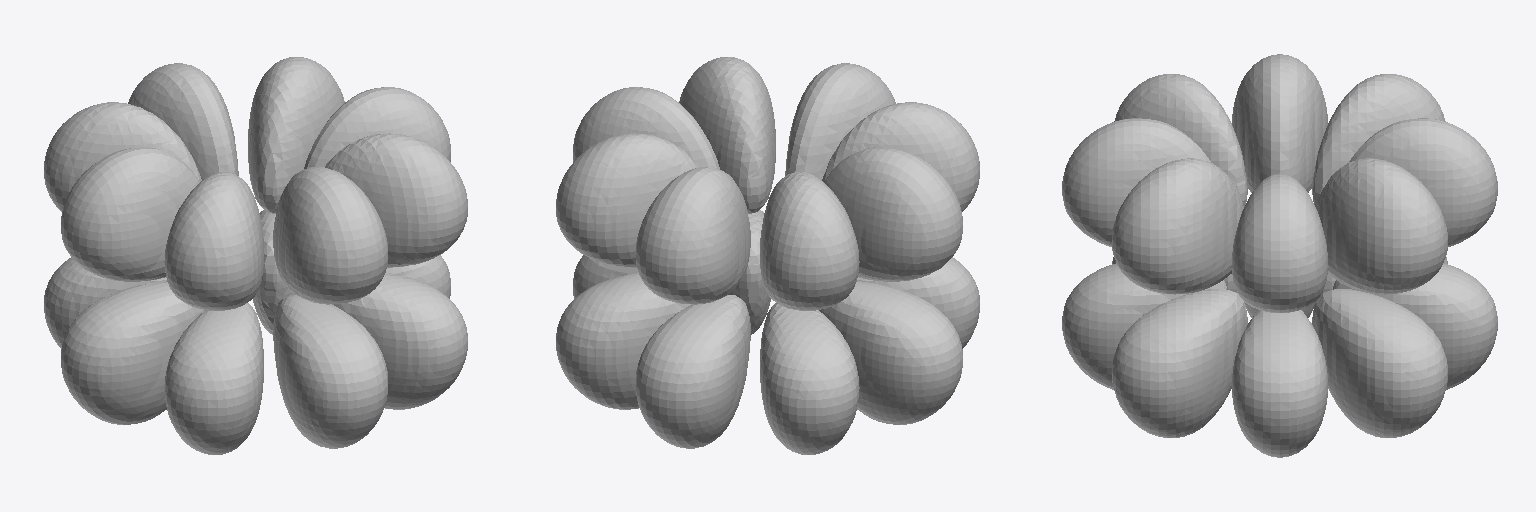
File: orb_n=6_ l=5 _m=4.obj
3 views of the same model, side by side, from view 1: azimuth 30°, elevation 25°; view 2: azimuth 150°, elevation 25°; view 3: azimuth 270°, elevation 25° (orthographic).
Visible parts, largest first — view 1: orb_n=6__l=5__m=4; view 2: orb_n=6__l=5__m=4; view 3: orb_n=6__l=5__m=4.
Part boxes in pixels (left/top/right/bottom): orb_n=6__l=5__m=4: left=44, top=57, right=467, bottom=454; orb_n=6__l=5__m=4: left=556, top=57, right=979, bottom=454; orb_n=6__l=5__m=4: left=1062, top=54, right=1497, bottom=457.
Size of the model in its own units: 121 by 82.64 by 121.